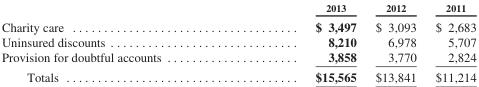table: (0, 1, 475, 83)
table column: (0, 1, 237, 83), (237, 1, 365, 83), (365, 1, 425, 83), (425, 1, 475, 83)
table column header: (0, 1, 475, 15)
table row: (0, 15, 475, 33), (0, 48, 475, 66), (0, 66, 475, 83), (0, 33, 475, 48), (0, 1, 475, 15)
